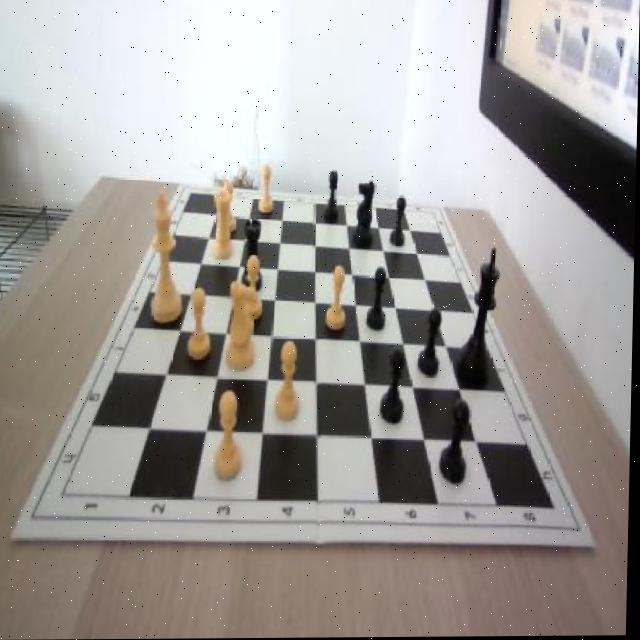black-bishop: (459, 249, 503, 385)
black-king: (354, 178, 377, 250)
black-knight: (441, 400, 471, 484), (382, 347, 409, 424), (418, 308, 443, 378), (368, 265, 391, 333), (325, 169, 342, 219), (391, 196, 407, 249)
black-queen: (242, 215, 268, 292)
white-bishop: (151, 194, 187, 325)
white-king: (221, 274, 262, 375)
white-knight: (213, 391, 247, 481), (274, 338, 307, 423), (186, 287, 215, 363), (240, 256, 266, 323), (328, 264, 350, 330), (258, 166, 277, 215), (221, 182, 239, 232)
white-queen: (212, 190, 237, 260)
